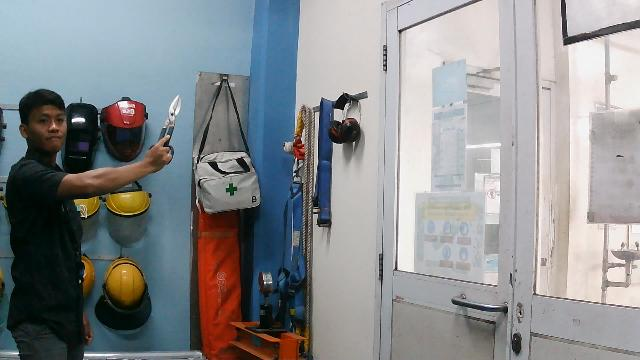gunting_plat: (129, 94, 197, 167)
